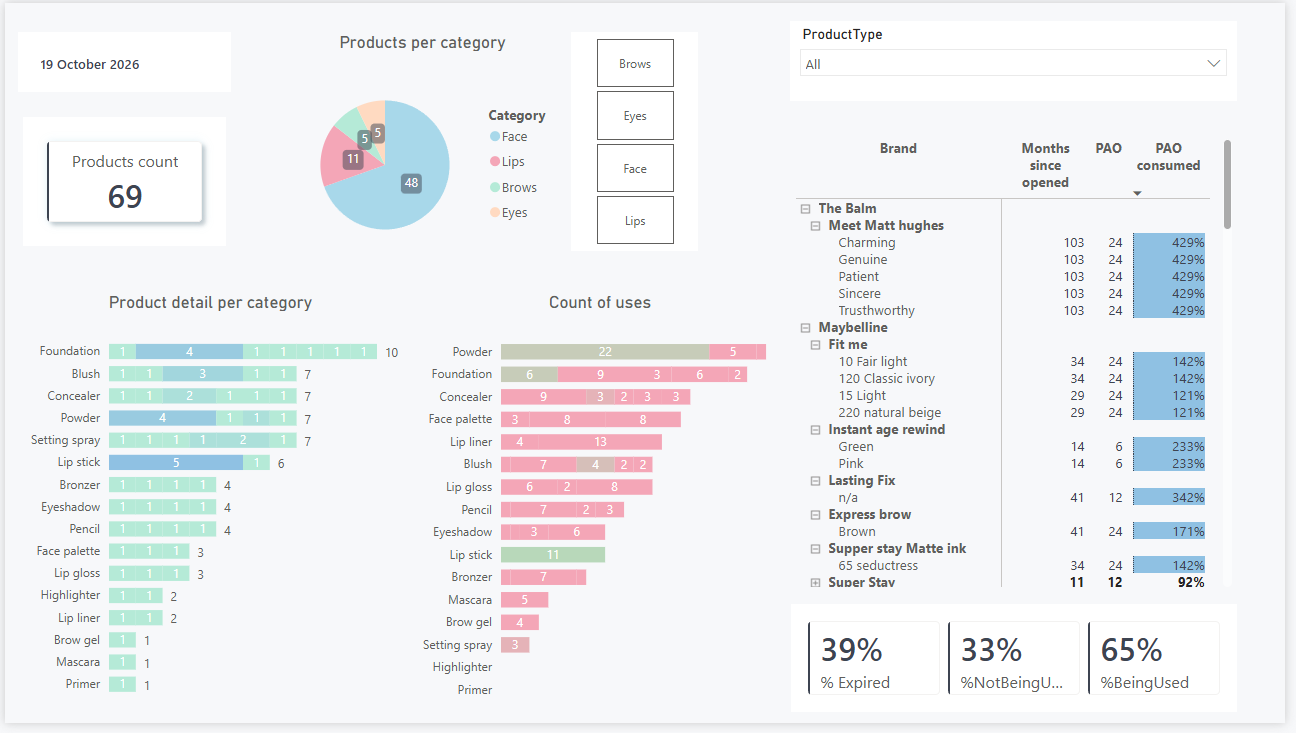

This screenshot's page, from the dashboard's own definition file:
{"tool":"powerbi","page":{"name":"Inventory","canvas":[1280,720],"ordinal":0},"visuals":[{"type":"pieChart","title":"Products per category","fields":{"Category":["Products.Category"],"Y":["CountNonNull(Products.ProductID)"]},"box":[270.5,29.3,294.6,235.5],"z":0},{"type":"barChart","title":"Product detail per category","fields":{"Category":["Products.ProductType"],"Series":["Products.ProductName"],"Y":["CountNonNull(Products.ProductID)"]},"box":[13.6,289.2,384.1,413.5],"z":1000},{"type":"barChart","title":"Count of uses","fields":{"Category":["Products.ProductType"],"Series":["Products.ProductName"],"Y":["Sum(Usage log.UsesSeptember)"]},"box":[405.6,289.2,379.6,420.3],"z":2000},{"type":"slicer","fields":{"Values":["Usage log.Category"]},"box":[585.5,29.3,146.4,228.1],"z":3000},{"type":"cardVisual","fields":{"Data":["CountNonNull(Products.ProductID)"]},"box":[12.1,125.2,212.8,139.2],"z":4000},{"type":"pivotTable","fields":{"Rows":["Products.Brand","Products.ProductName","Products.Shade"],"Values":["Products.TimeFromOpening","Sum(Products.ExpiryMonthsAfterOpening)","Products.%BeforeExpiring"]},"box":[785.4,29.3,446.2,674.3],"z":5000},{"type":"cardVisual","fields":{"Data":["Products.CurrentDate"]},"box":[13.1,29.3,212.4,59.9],"z":6000}]}

Visuals, with their boxes in screenshot pixels (x1, y1, x2, y2), scaled from the page's 1280x720 canvas onto the 1296x733 screenshot:
"Products per category" pieChart: crop(274, 30, 572, 270)
"Product detail per category" barChart: crop(14, 294, 403, 715)
"Count of uses" barChart: crop(411, 294, 795, 722)
slicer - Usage log.Category: crop(593, 30, 741, 262)
cardVisual - CountNonNull(Products.ProductID): crop(12, 127, 228, 269)
pivotTable - Products.Brand x Products.ProductName: crop(795, 30, 1247, 716)
cardVisual - Products.CurrentDate: crop(13, 30, 228, 91)
